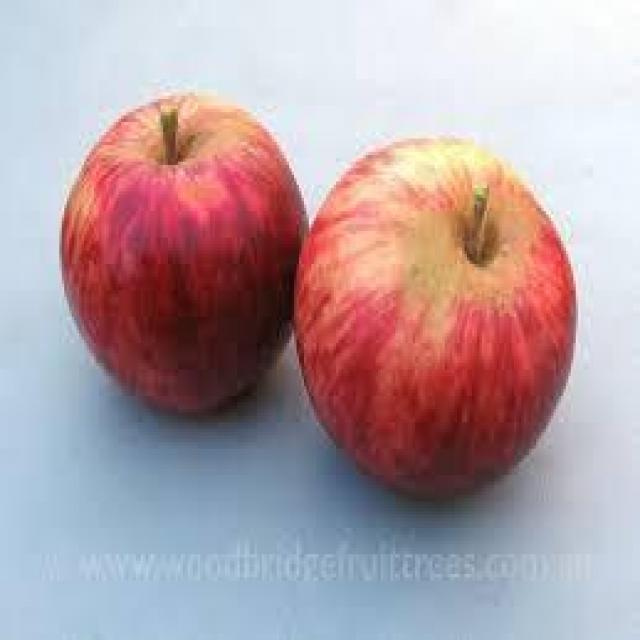apple: (296, 137, 576, 496), (59, 92, 310, 414)
